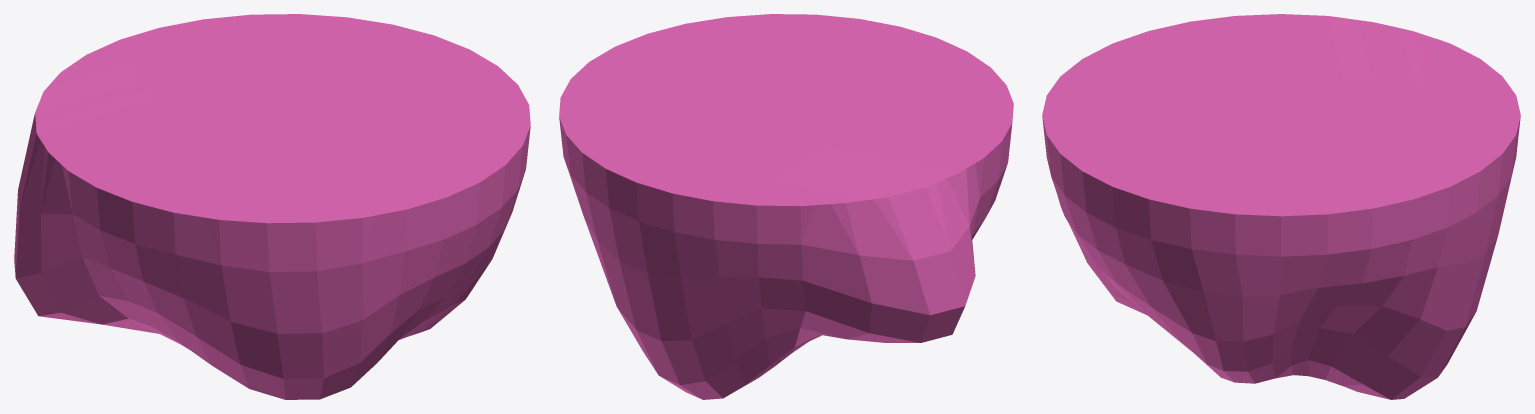
Rendered from terrain.glb.
The picture shows the model from 3 angles, left to right: view 1: azimuth 30°, elevation 25°; view 2: azimuth 150°, elevation 25°; view 3: azimuth 270°, elevation 25°; orthographic projection. The views are drawn at different scales.
Visible parts, largest first — view 1: basic_terrain; view 2: basic_terrain; view 3: basic_terrain.
Part boxes in pixels (<box>): basic_terrain: <box>14,14,530,399</box>; basic_terrain: <box>559,14,1013,399</box>; basic_terrain: <box>1042,14,1520,399</box>.
Bounding box in the file's own units: 2.08 × 1.21 × 2.
